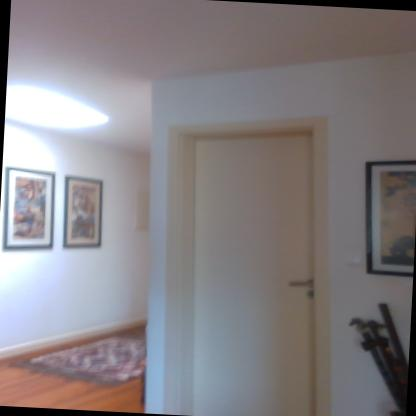closed: (138, 104, 340, 416)
